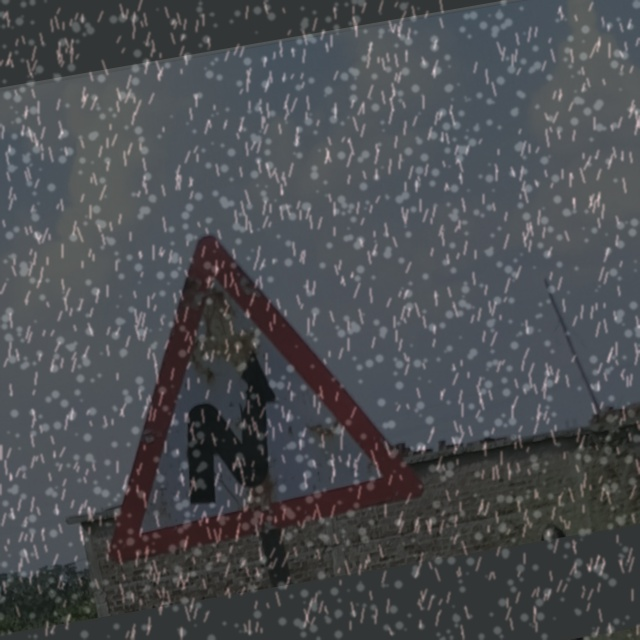Right_Reverse_Bend: (59, 209, 432, 560)
